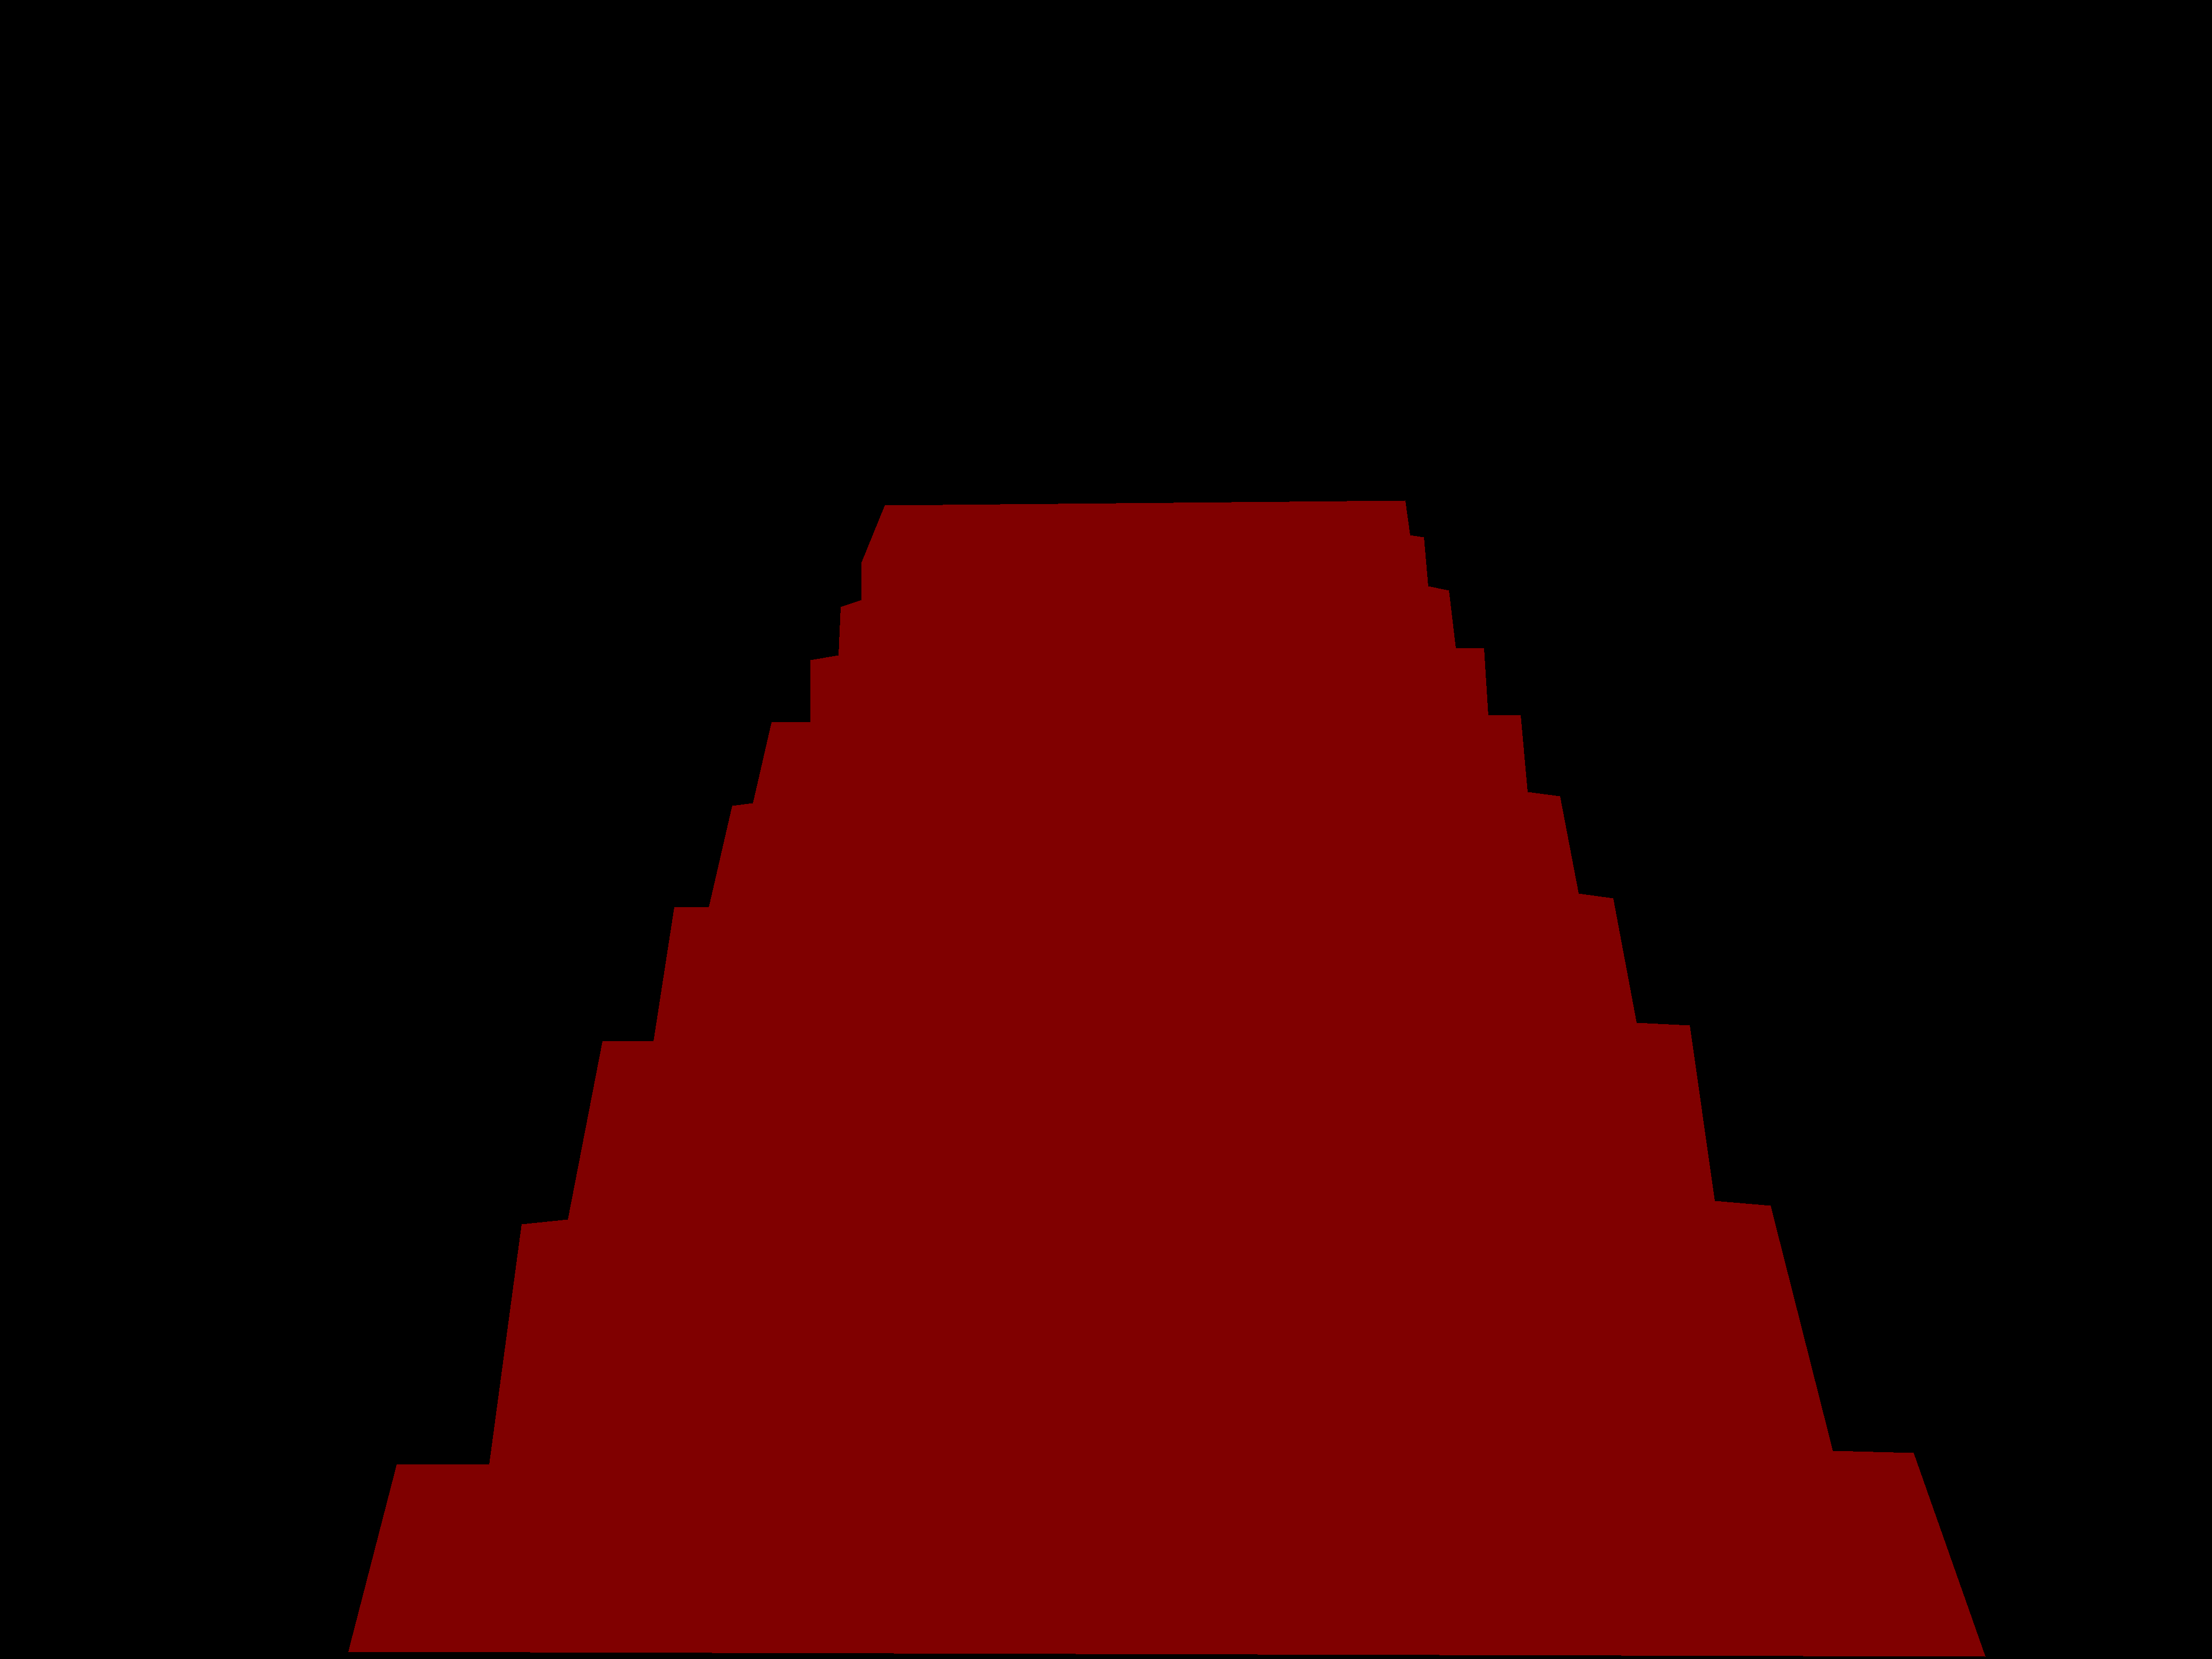stair: (348, 500, 1986, 1656)
